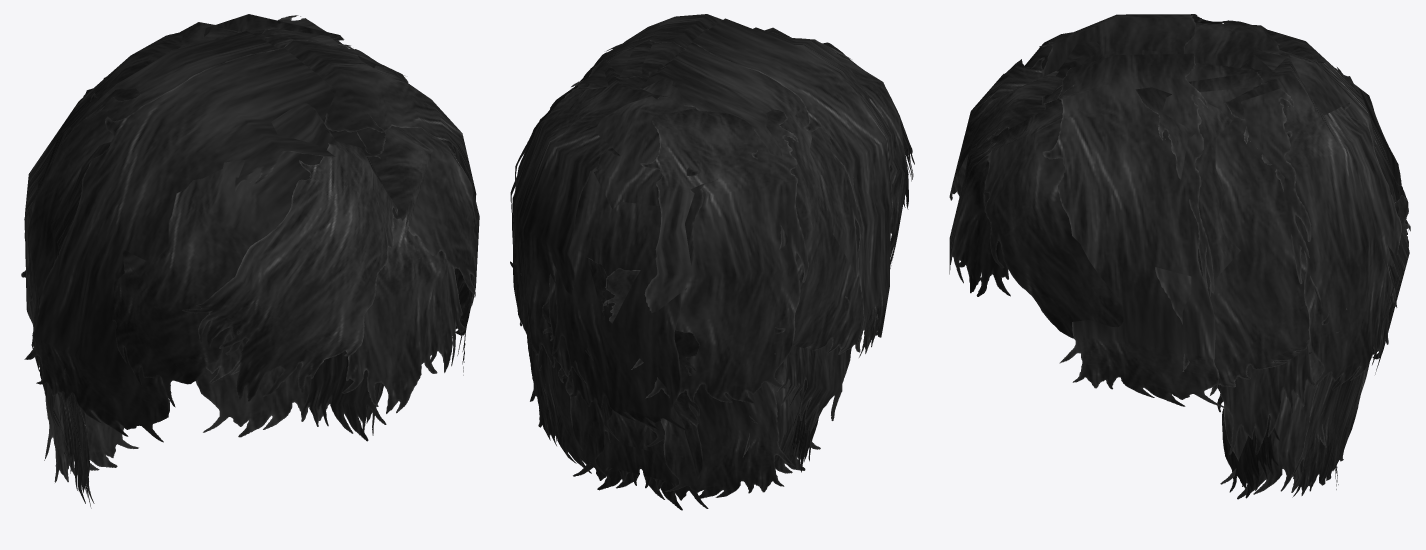
Rendered from hair_015.fbx.
3 renders of one model, left to right at view 1: azimuth 30°, elevation 25°; view 2: azimuth 150°, elevation 25°; view 3: azimuth 270°, elevation 25°, orthographic. The views are drawn at different scales.
Visible parts, largest first — view 1: hair_015; view 2: hair_015; view 3: hair_015.
Boxes of the visible parts, x1,y1,x2,y2 form: hair_015: (21,14,479,508); hair_015: (510,14,914,510); hair_015: (949,14,1410,499).
Size of the model in its own units: 21.61 by 24.81 by 23.21.
